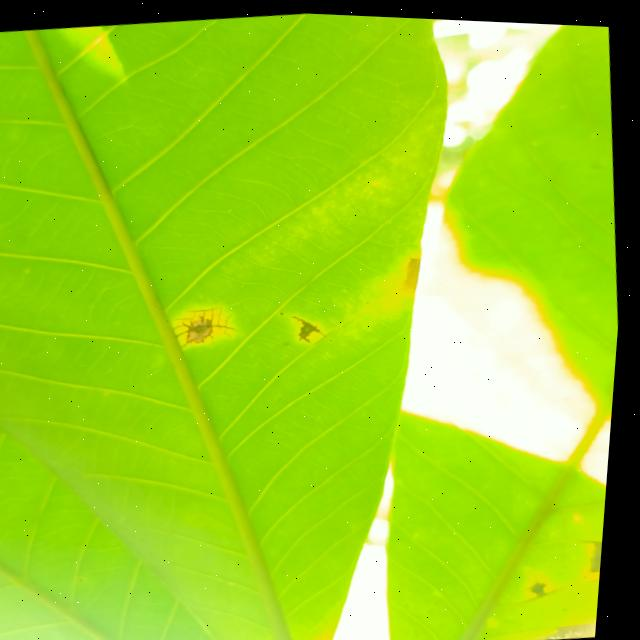Colletotrichum: (284, 310, 288, 312)
Corynespora: (173, 300, 246, 349), (294, 309, 333, 343), (530, 573, 571, 599)
Leaf-Blight: (500, 529, 610, 640), (405, 252, 430, 289)
